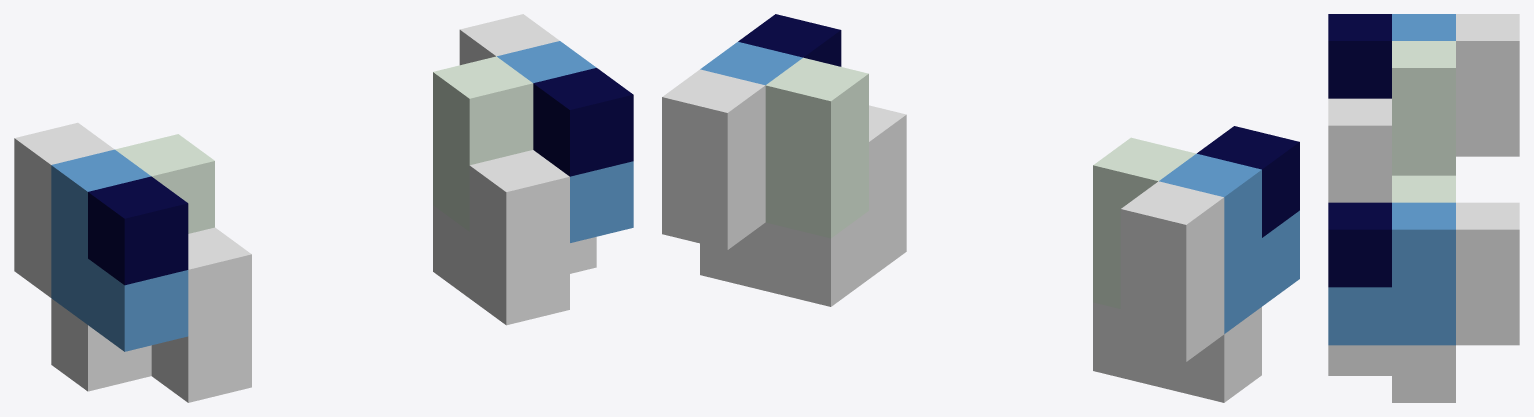
File: goldeen-0.obj
3 renders of one model, left to right at view 1: azimuth 30°, elevation 25°; view 2: azimuth 150°, elevation 25°; view 3: azimuth 270°, elevation 25°, orthographic. The views are drawn at different scales.
Size of the model in its own units: 0.8 by 0.3 by 0.3.
1 material, 1 textured.
